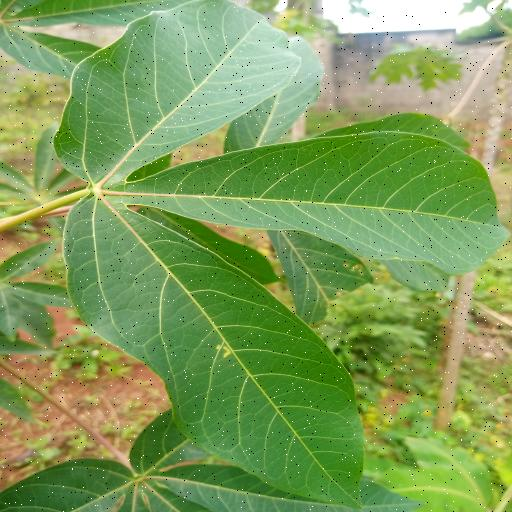Cassava_Healthy: (58, 0, 512, 500)
